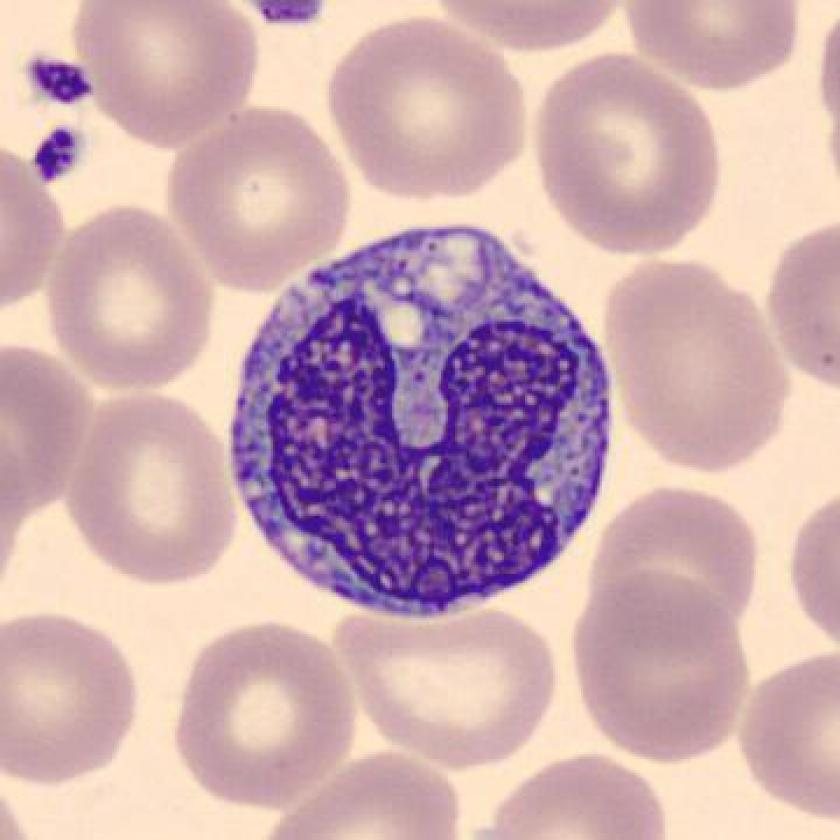monocyte: (209, 210, 636, 631)
